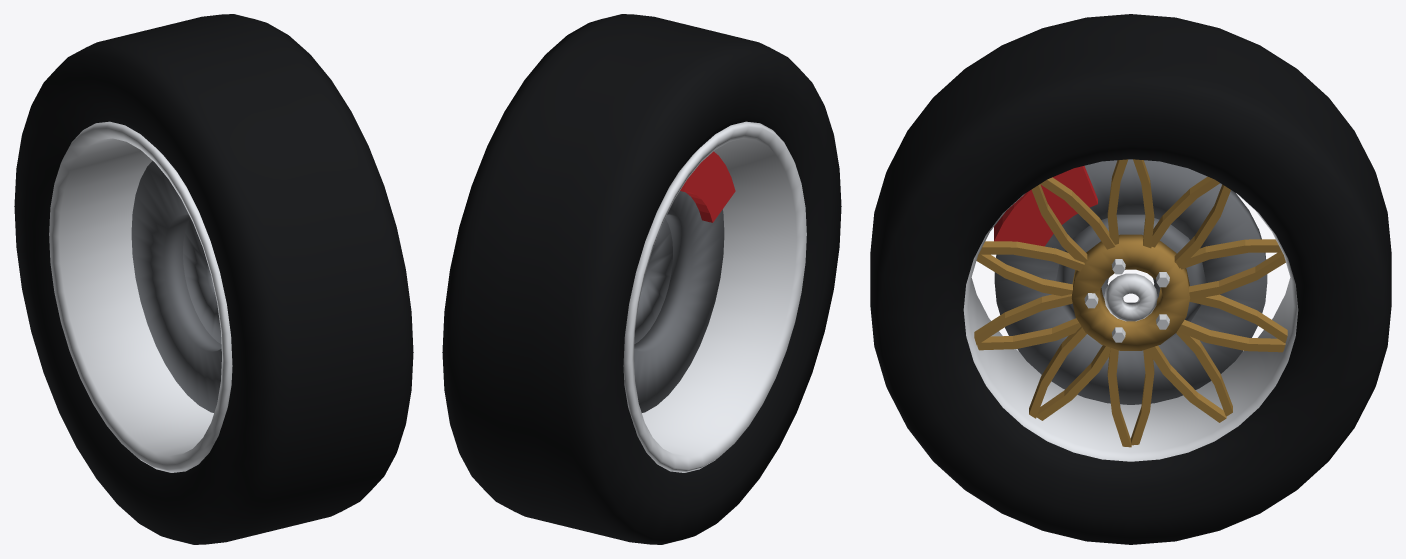
The picture shows the model from 3 angles, left to right: view 1: azimuth 30°, elevation 25°; view 2: azimuth 150°, elevation 25°; view 3: azimuth 270°, elevation 25°; orthographic projection.
Visible parts, largest first — view 1: wheel, brake; view 2: wheel, brake; view 3: wheel, brake.
Part boxes in pixels (<box>): wheel: <box>14,14,413,544</box>; brake: <box>131,161,221,412</box>; wheel: <box>442,14,841,544</box>; brake: <box>634,151,735,412</box>; wheel: <box>870,14,1391,544</box>; brake: <box>994,159,1267,404</box>.
Size of what is drawn, in the model's own units: 0.235 by 0.66 by 0.66.
